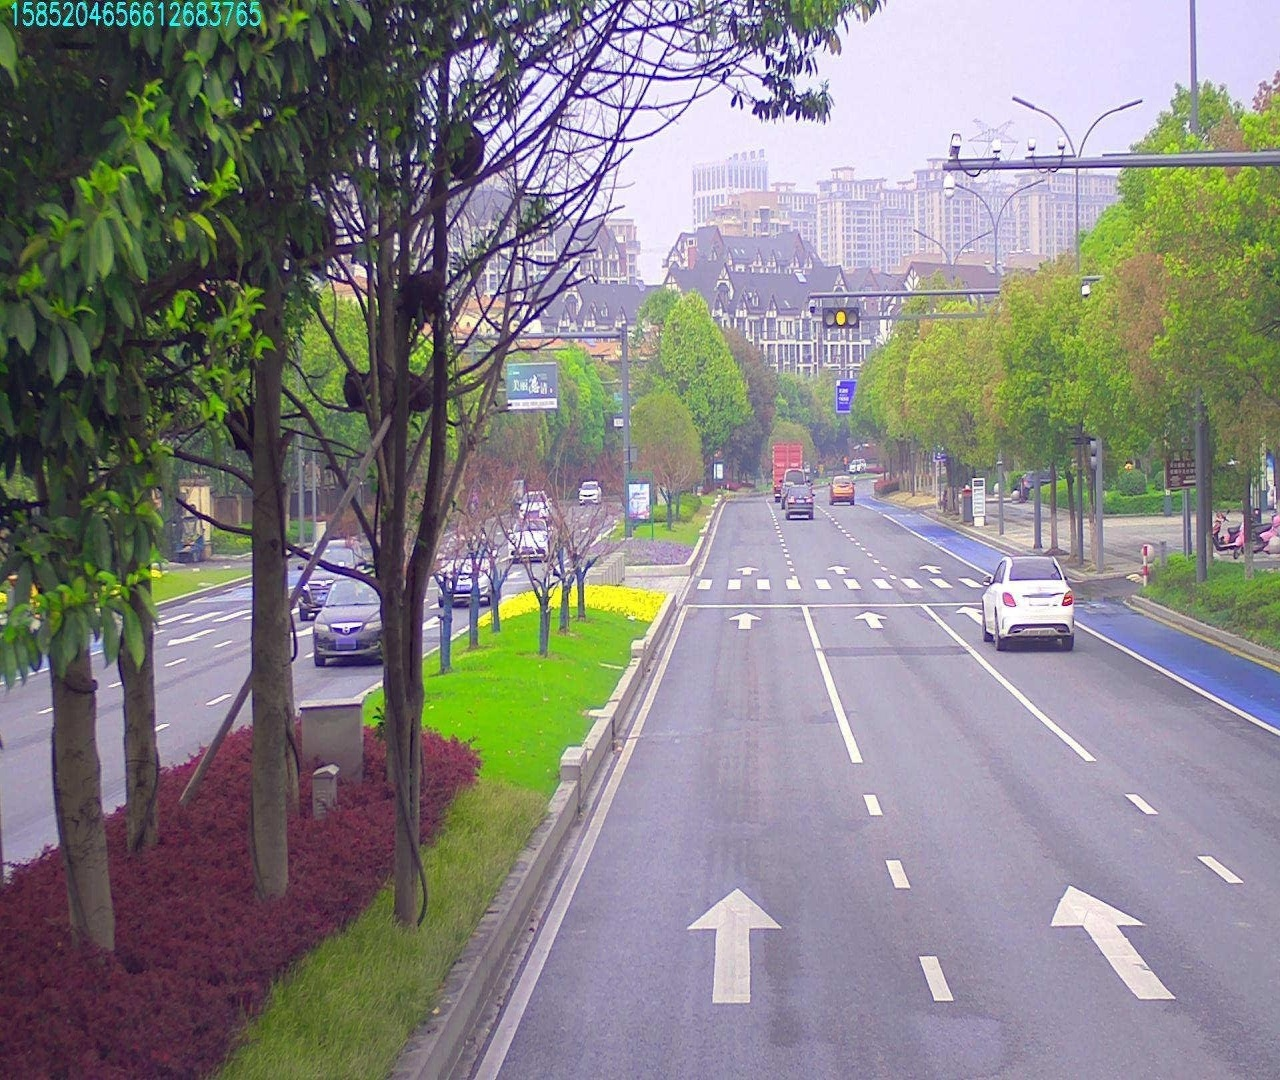yellow: (824, 305, 852, 328)
